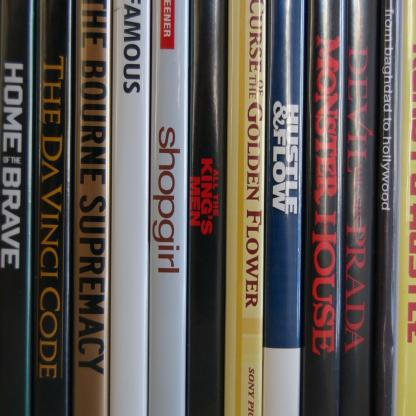book: (0, 12, 412, 416)
